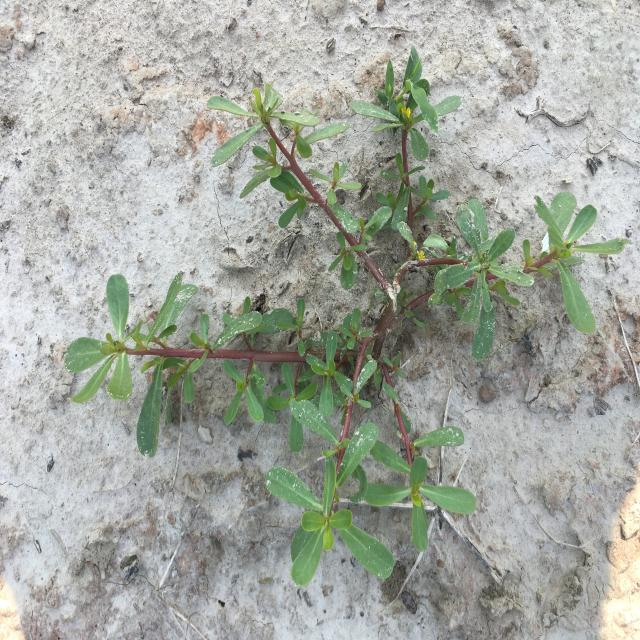Purslane: (63, 45, 631, 588)
